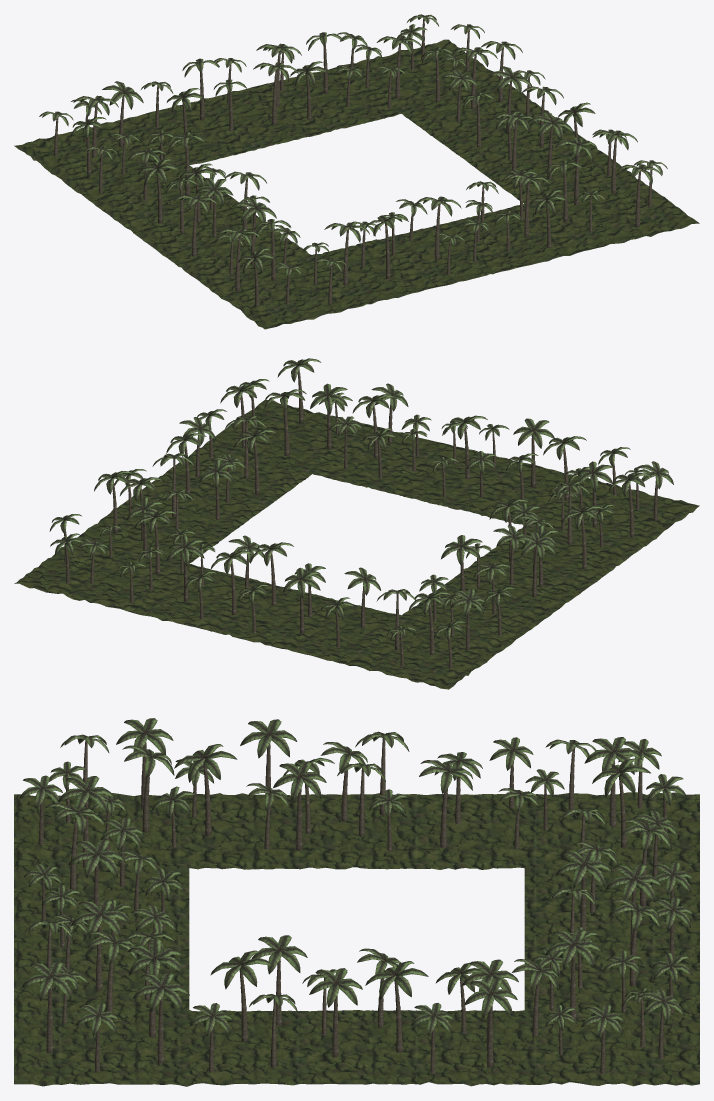
The model's file is border.glb.
3 views of the same model, one above another, from view 1: azimuth 30°, elevation 25°; view 2: azimuth 150°, elevation 25°; view 3: azimuth 270°, elevation 25° (orthographic). The views are drawn at different scales.
Parts seen in each view (by area): view 1: Groud, BorderPalmTrees; view 2: Groud, BorderPalmTrees; view 3: Groud, BorderPalmTrees.
Part boxes in pixels (box(x1,y1,x2,y2)): Groud: box(14, 39, 699, 329); BorderPalmTrees: box(39, 14, 667, 306); Groud: box(14, 399, 699, 689); BorderPalmTrees: box(49, 358, 673, 668); Groud: box(14, 792, 699, 1086); BorderPalmTrees: box(19, 718, 693, 1074).
Size of what is drawn, in the model's own units: 64 by 9.46 by 64.
3 materials, 3 textured.
